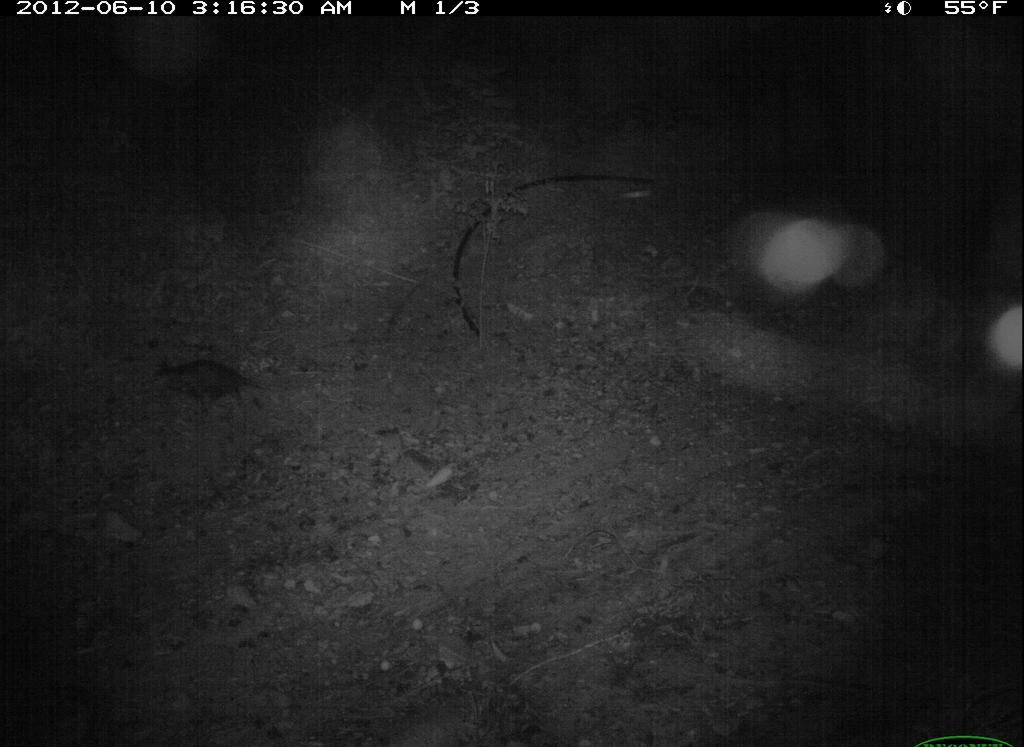opossum: (150, 345, 274, 420)
